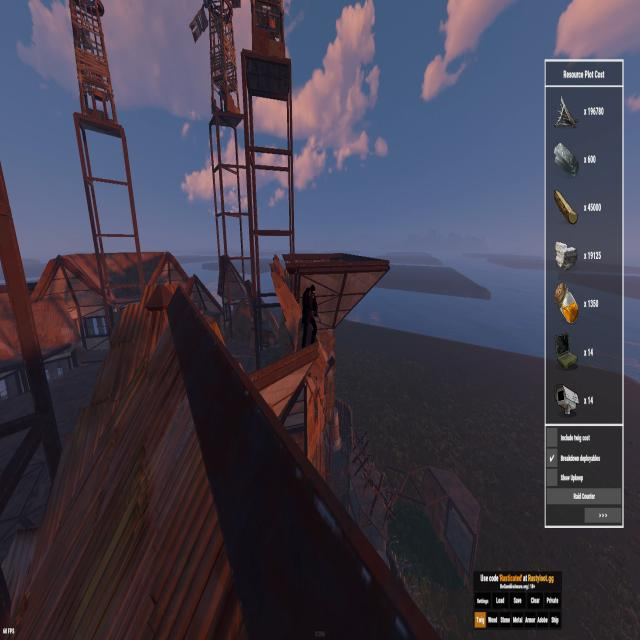Player: (300, 282, 319, 350)
